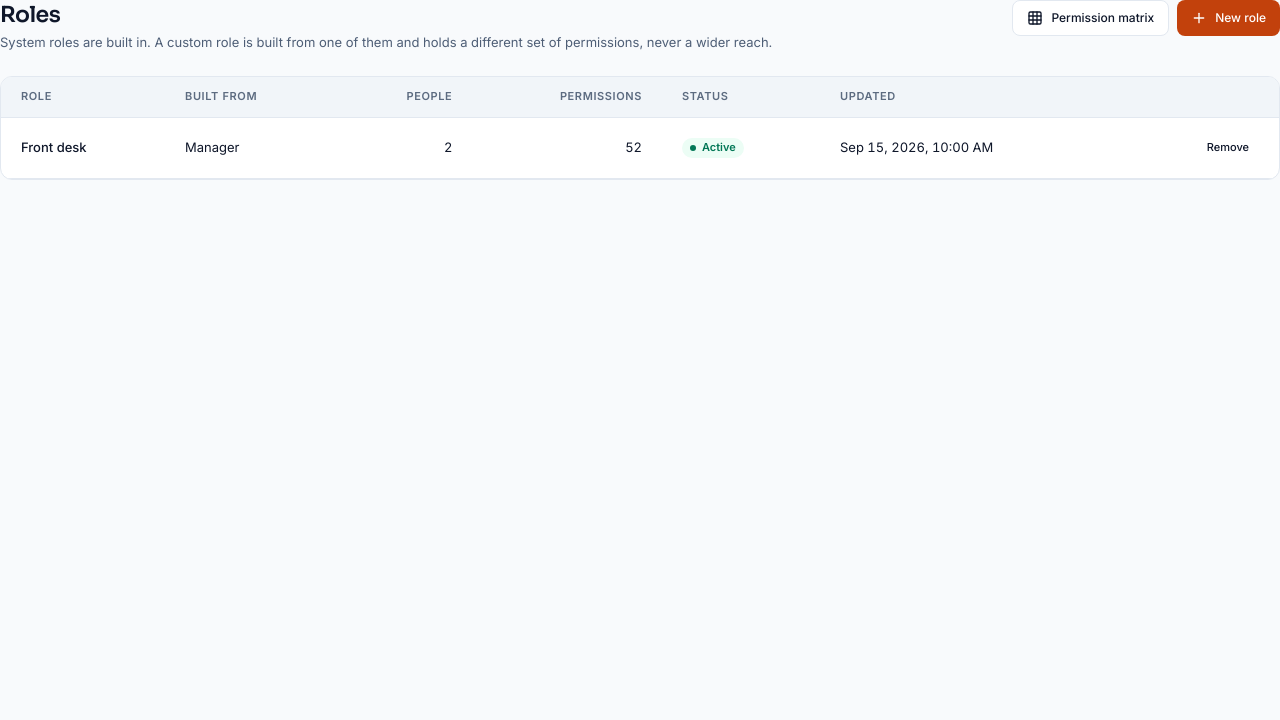
Test: RolesPage › refuses removal while people hold the role
Click the button "Remove". click: coordinates (1228, 148)
box: [1197,132,1259,164]
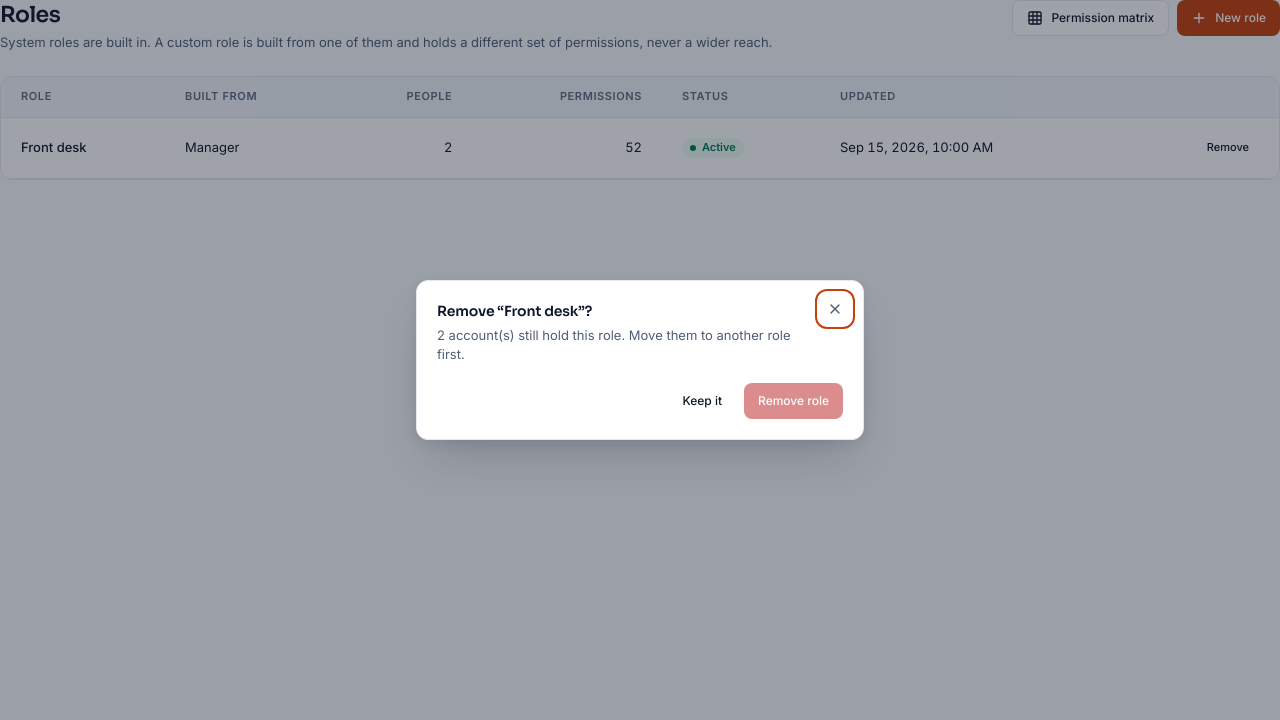
Result: the text "2 account(s) still hold this role" is shown at [437,327,791,362]
